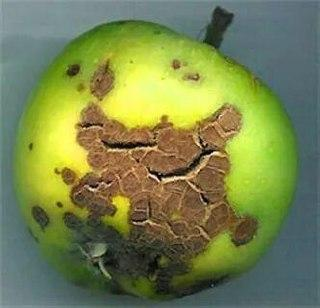Apple: (9, 20, 298, 305)
